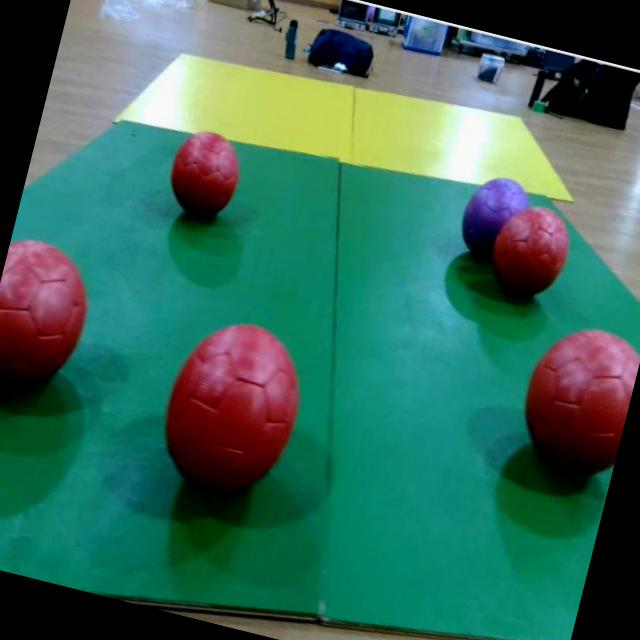purple_ball: (454, 168, 534, 268)
red_ball: (150, 310, 314, 507), (509, 315, 640, 485), (0, 235, 98, 413), (482, 196, 578, 307), (162, 125, 248, 223)
